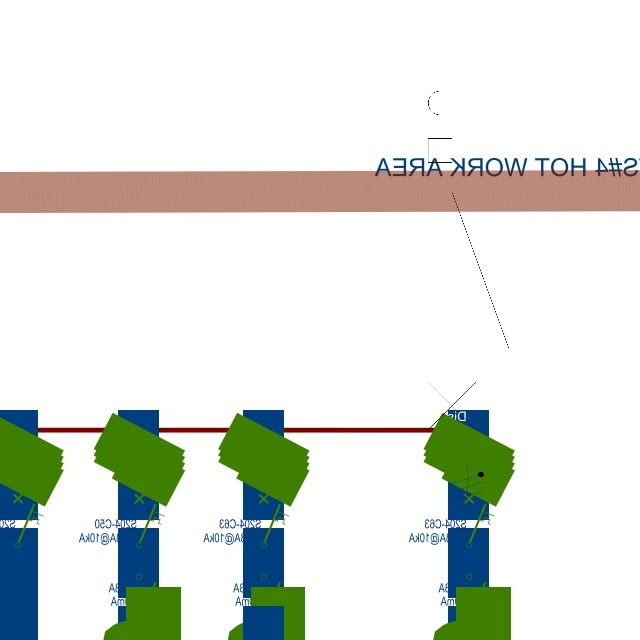interruptor_termomagnetico: (418, 51, 519, 463)
